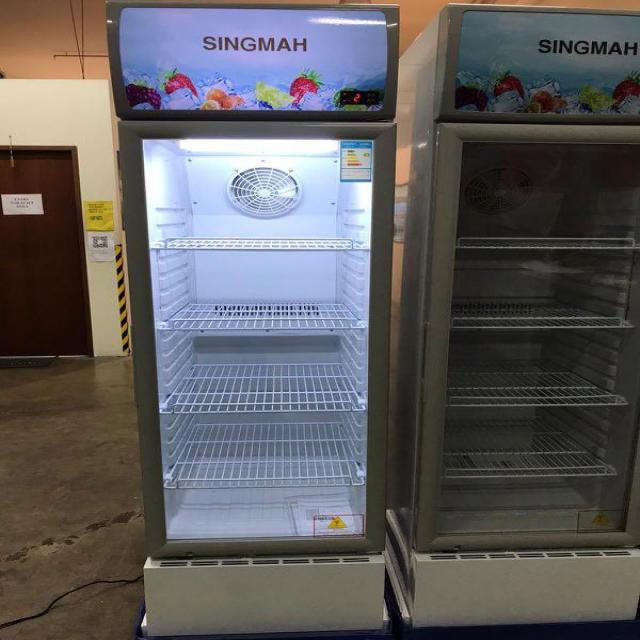refrigerator: (102, 1, 390, 560), (405, 8, 640, 548)
